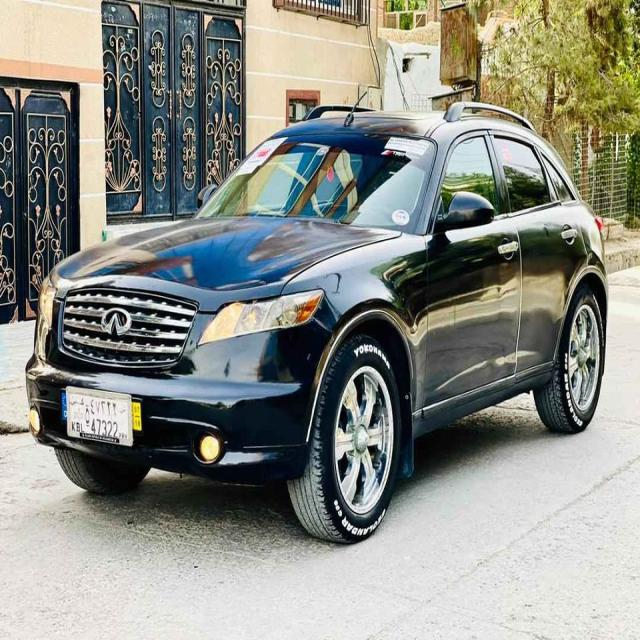Plate: (64, 381, 134, 450)
